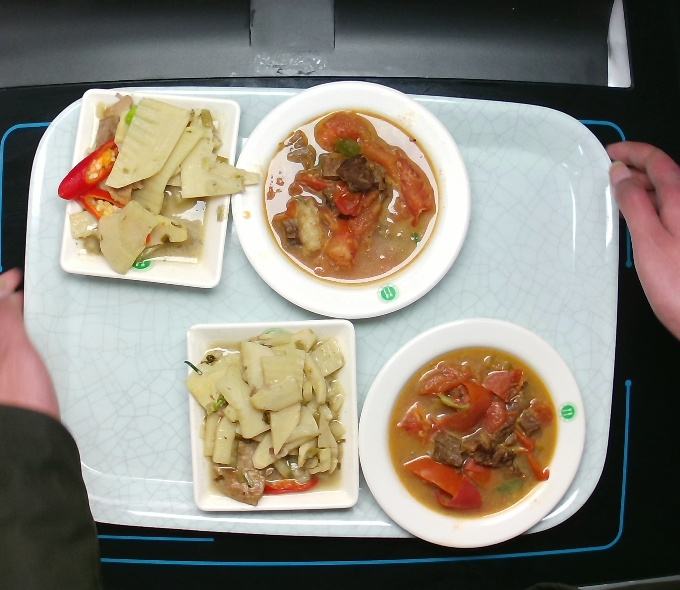wcq-DongSun: (185, 332, 359, 500), (59, 100, 233, 268)
wcq-FanQiwNiuRou: (254, 96, 447, 290), (375, 337, 562, 533)
